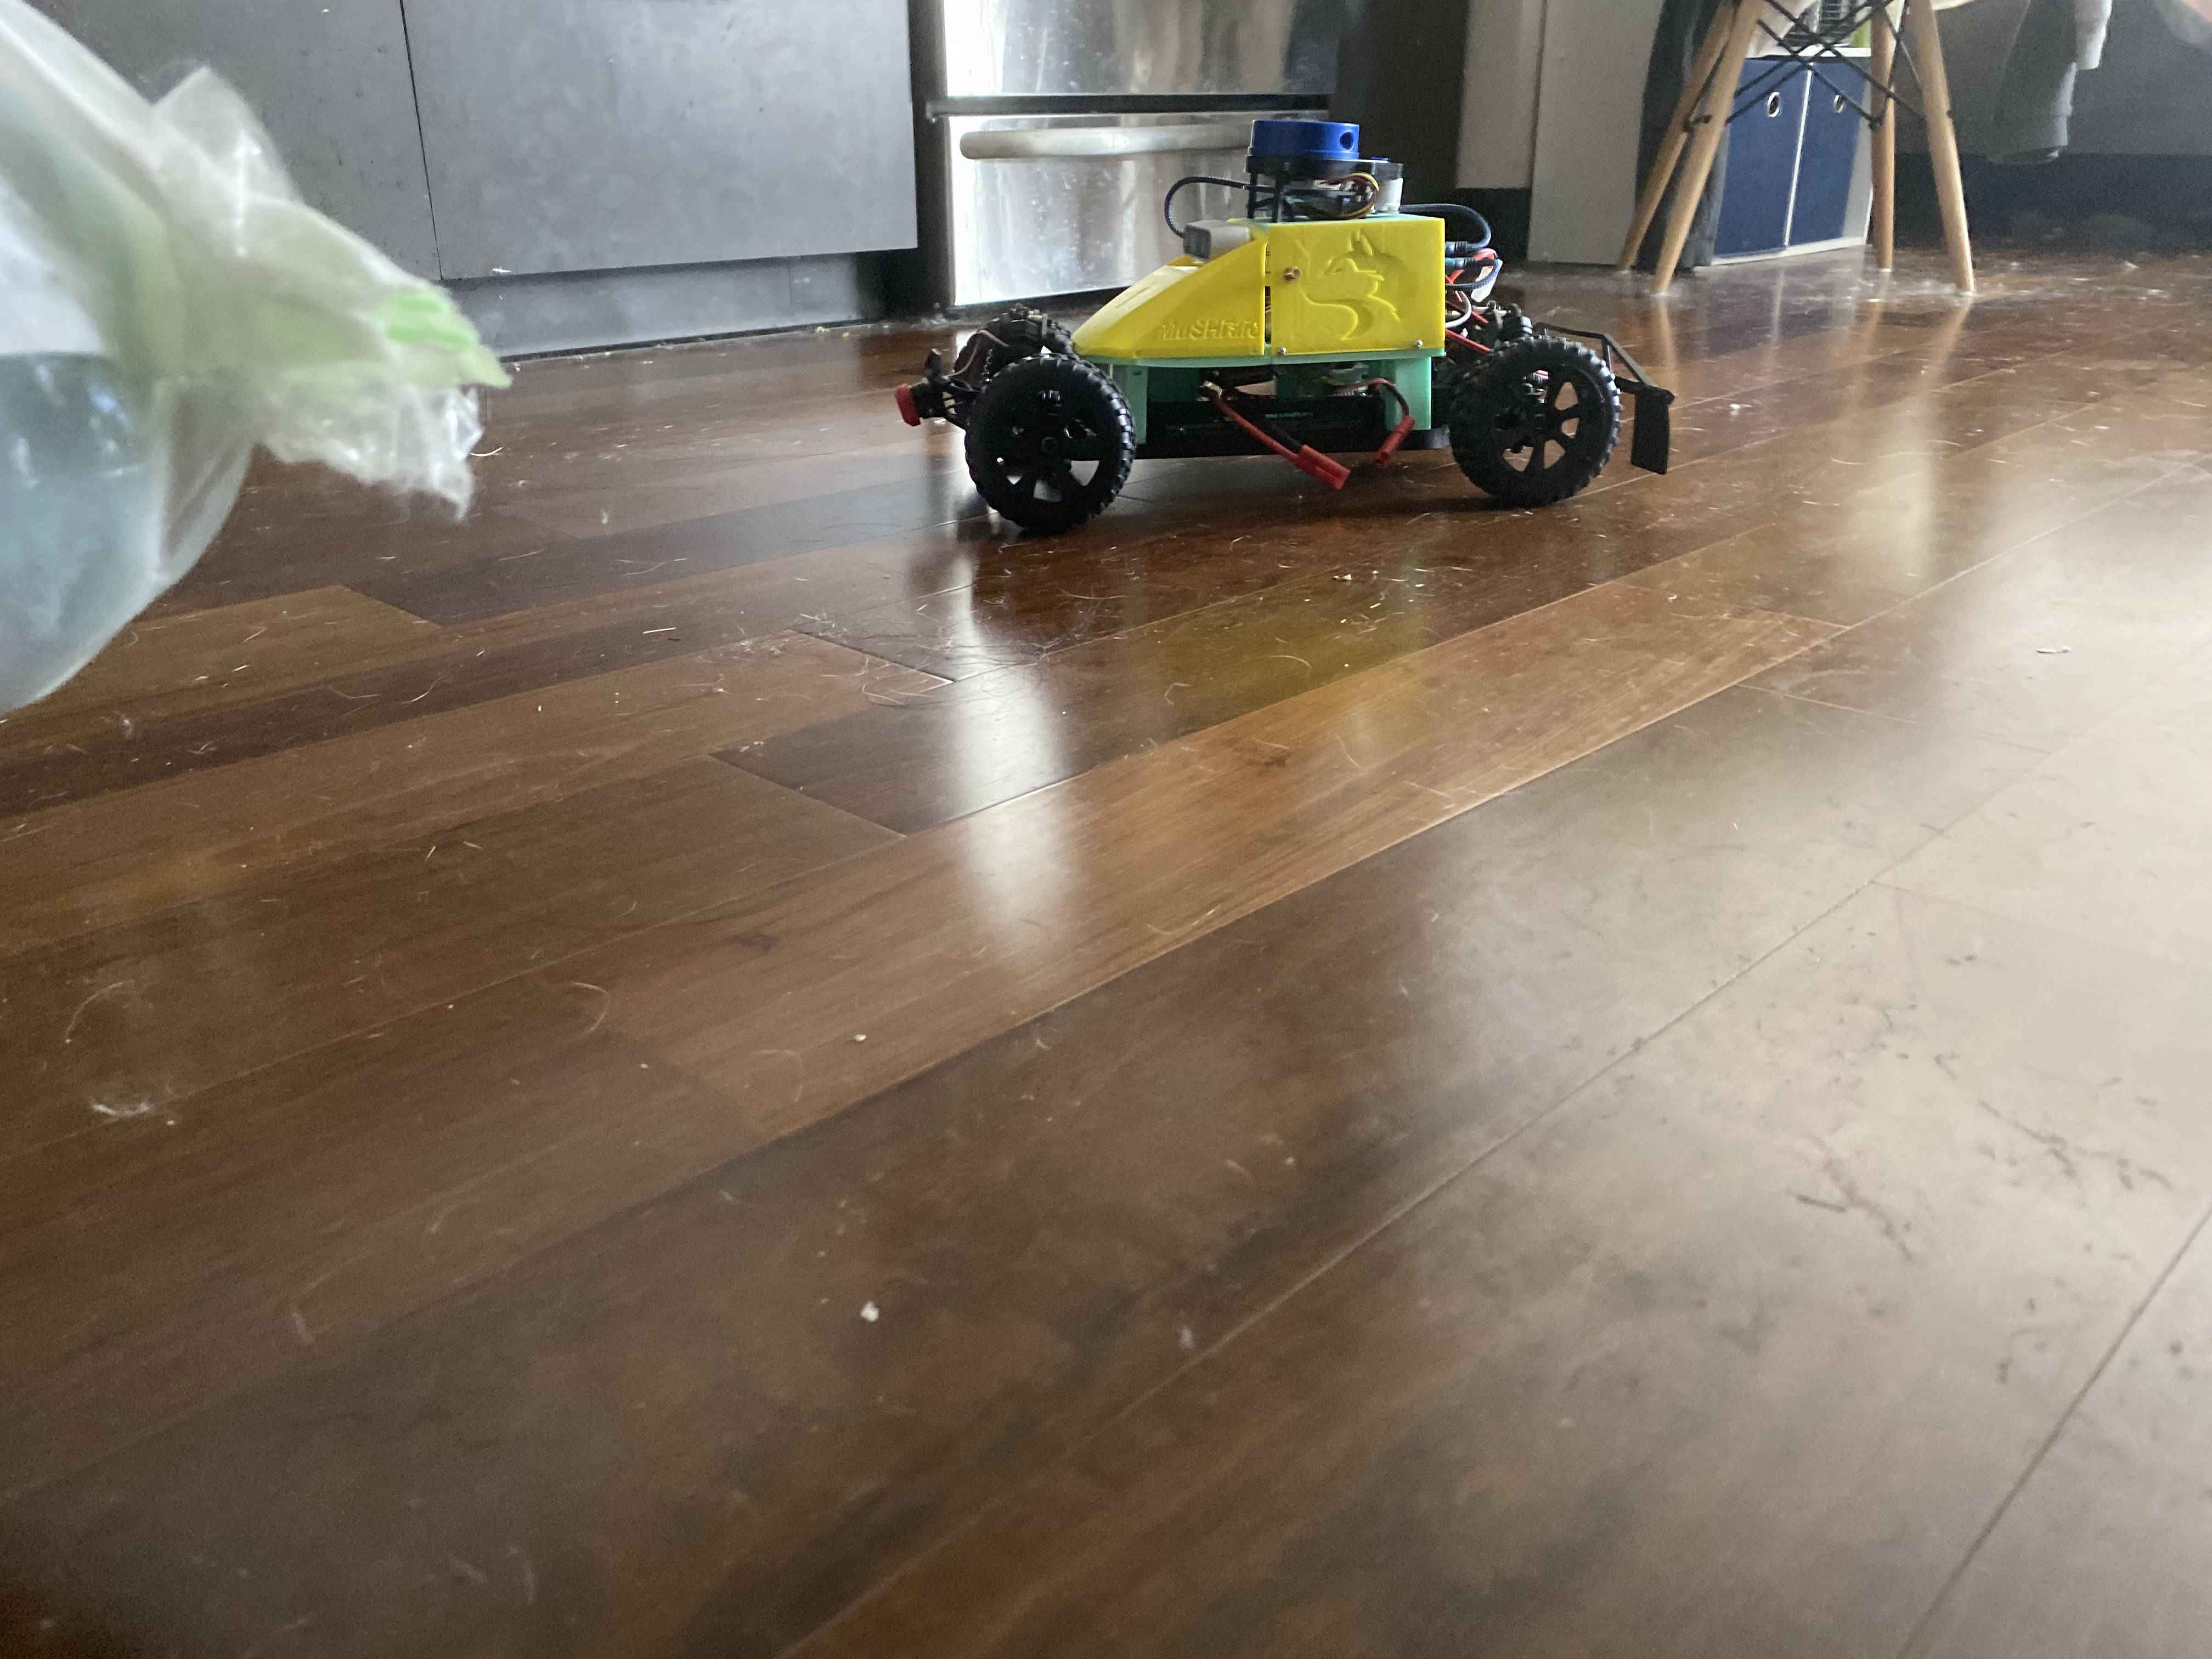mushr_car: (885, 120, 1683, 537)
